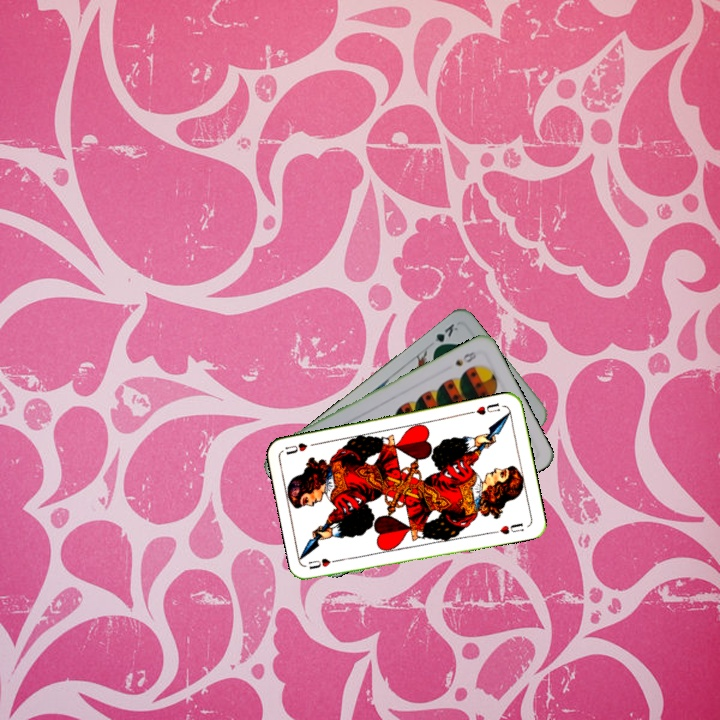GK: (429, 319, 460, 353)
HU: (304, 555, 344, 571), (472, 399, 503, 418)
S8: (451, 347, 479, 369)
